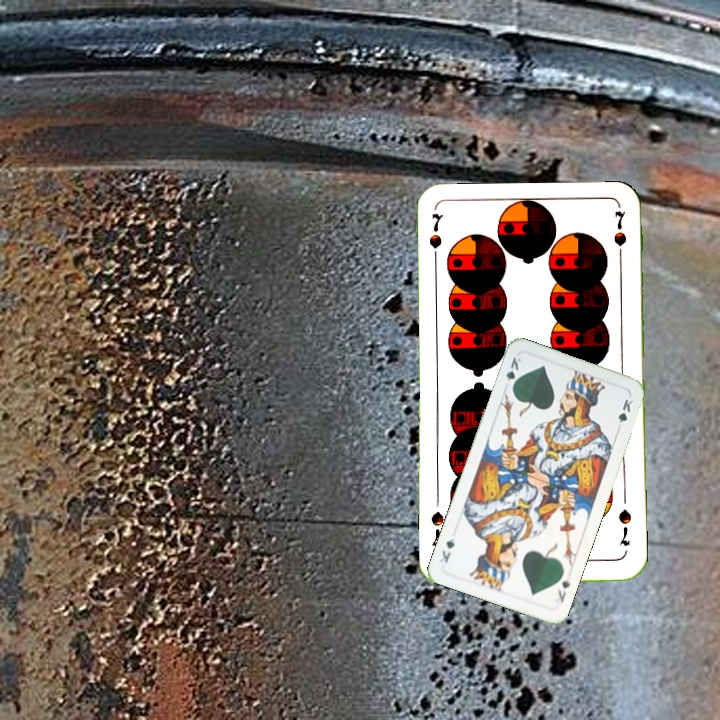GK: (502, 353, 524, 393), (554, 573, 573, 606)
S7: (425, 209, 445, 268), (614, 505, 634, 548)
